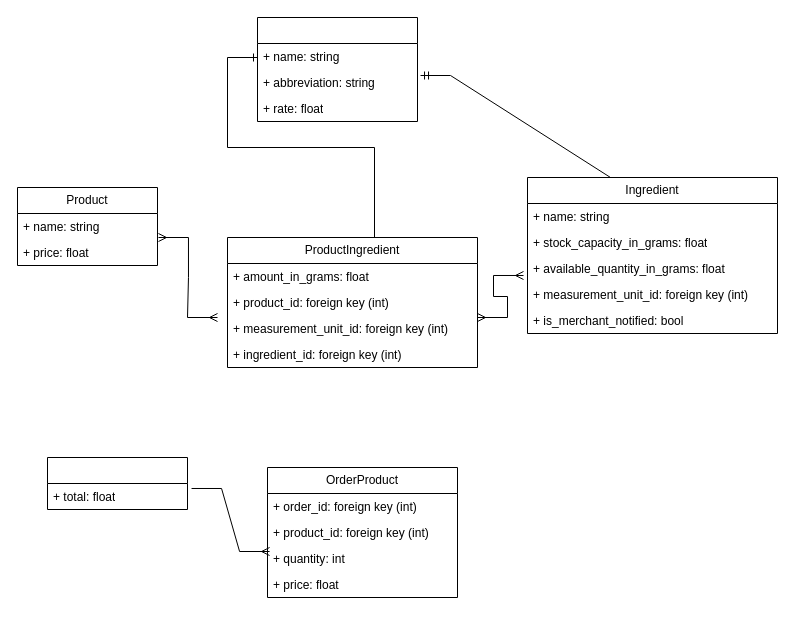
Image size: 795x618. Some labels were removed from this diagram. Each missing label, with the box of its shape:
MeasurementUnit: (256, 16, 418, 122)
Order: (46, 456, 188, 510)
